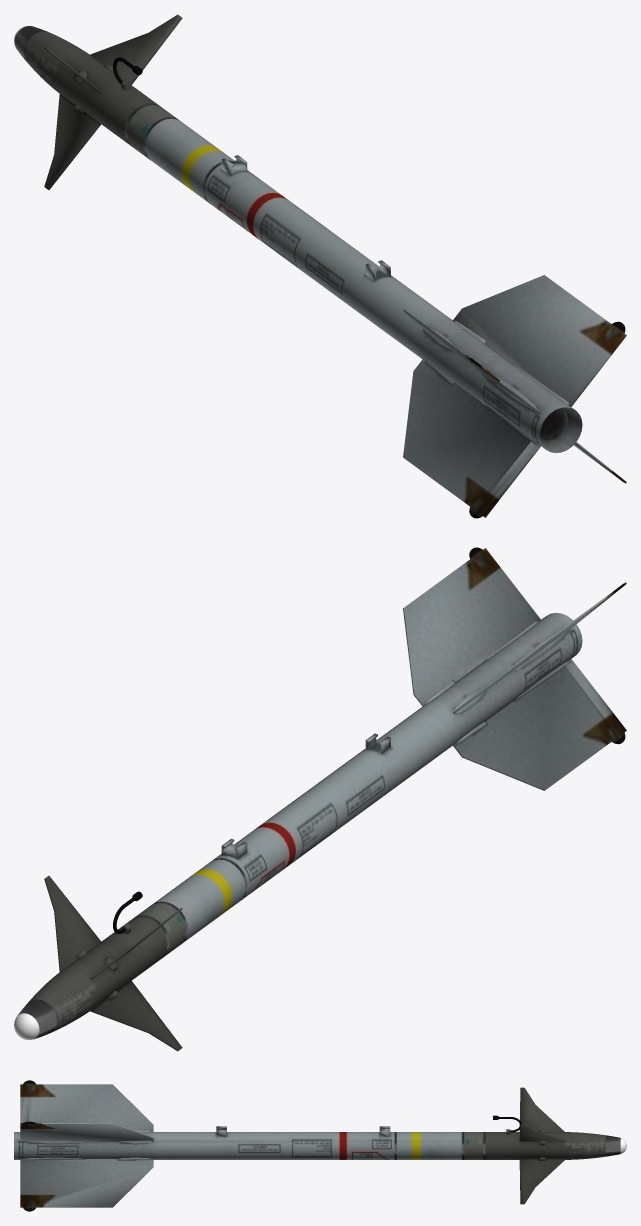
The model's file is aim9.glb.
The picture shows the model from 3 angles, top to bottom: view 1: azimuth 30°, elevation 25°; view 2: azimuth 150°, elevation 25°; view 3: azimuth 270°, elevation 25°; orthographic projection. The views are drawn at different scales.
Visible parts, largest first — view 1: aim9_body; view 2: aim9_body; view 3: aim9_body.
Boxes of the visible parts, x1,y1,x2,y2 form: aim9_body: (14,14,626,518); aim9_body: (14,547,626,1051); aim9_body: (14,1080,626,1211).
Bounding box in the file's own units: 0.4603 × 0.4603 × 2.84.
2 materials, 2 textured.
